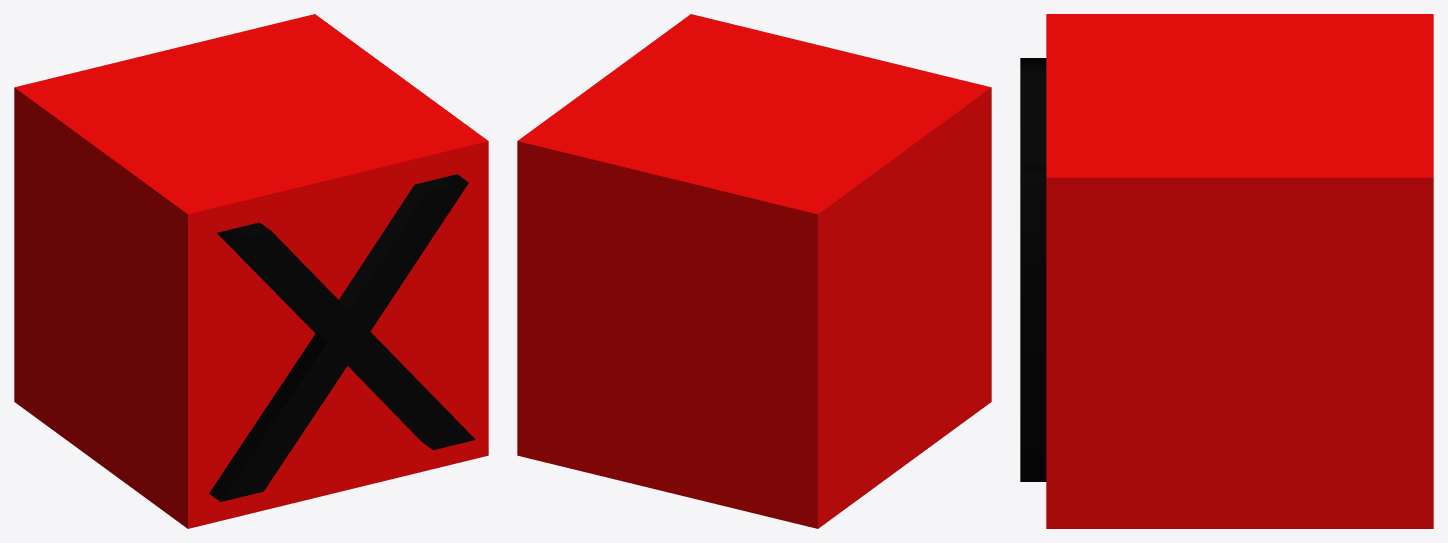
The model's file is dismissButton1.fbx.
The picture shows the model from 3 angles, left to right: view 1: azimuth 30°, elevation 25°; view 2: azimuth 150°, elevation 25°; view 3: azimuth 270°, elevation 25°; orthographic projection. The views are drawn at different scales.
Visible parts, largest first — view 1: Cube.180, Text.002; view 2: Cube.180; view 3: Cube.180, Text.002.
Boxes of the visible parts, x1,y1,x2,y2 form: Cube.180: (14,14,488,528); Text.002: (209,174,475,501); Cube.180: (517,14,991,528); Cube.180: (1046,14,1433,528); Text.002: (1020,58,1046,481).
Bounding box in the file's own units: 2 × 2 × 2.13.
